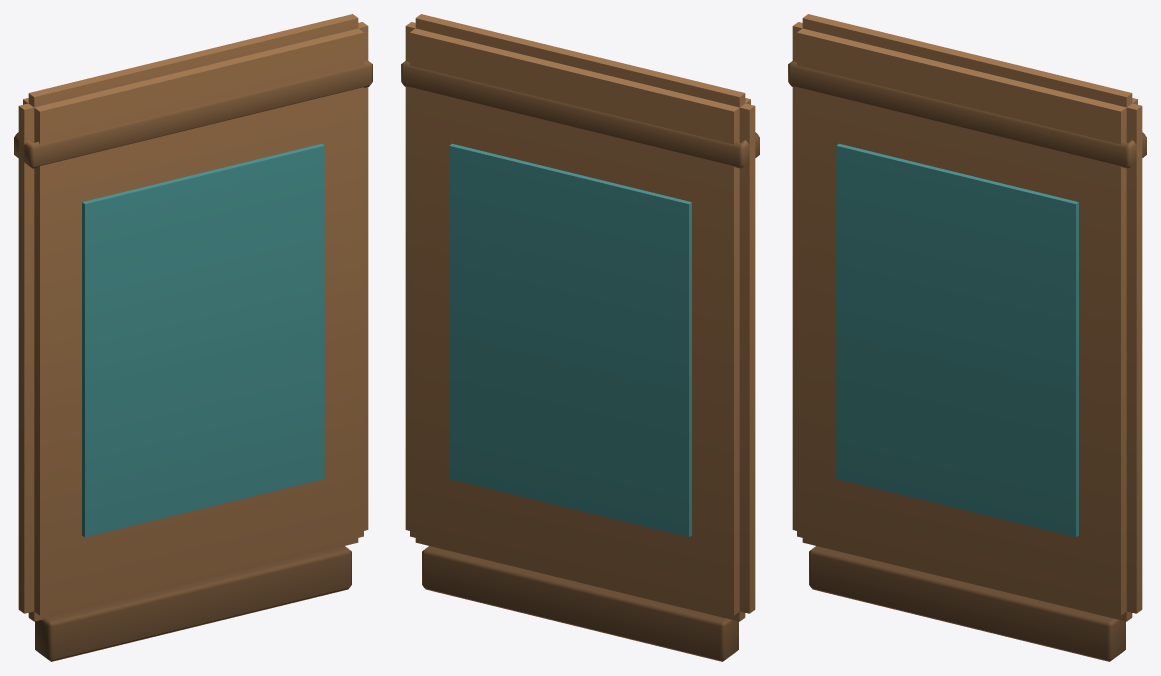
Rendered from SM_Bar_End_01.glb.
The picture shows the model from 3 angles, left to right: view 1: azimuth 30°, elevation 25°; view 2: azimuth 150°, elevation 25°; view 3: azimuth 330°, elevation 25°; orthographic projection.
Parts seen in each view (by area): view 1: SM_Bar_End_01; view 2: SM_Bar_End_01; view 3: SM_Bar_End_01.
Part boxes in pixels (x1=…): SM_Bar_End_01: x1=14, y1=14, x2=372, y2=661; SM_Bar_End_01: x1=401, y1=14, x2=759, y2=661; SM_Bar_End_01: x1=788, y1=14, x2=1146, y2=661.
Bounding box in the file's own units: 0.7 × 1.1 × 0.08.
Materials: 1 (1 with a texture image).
